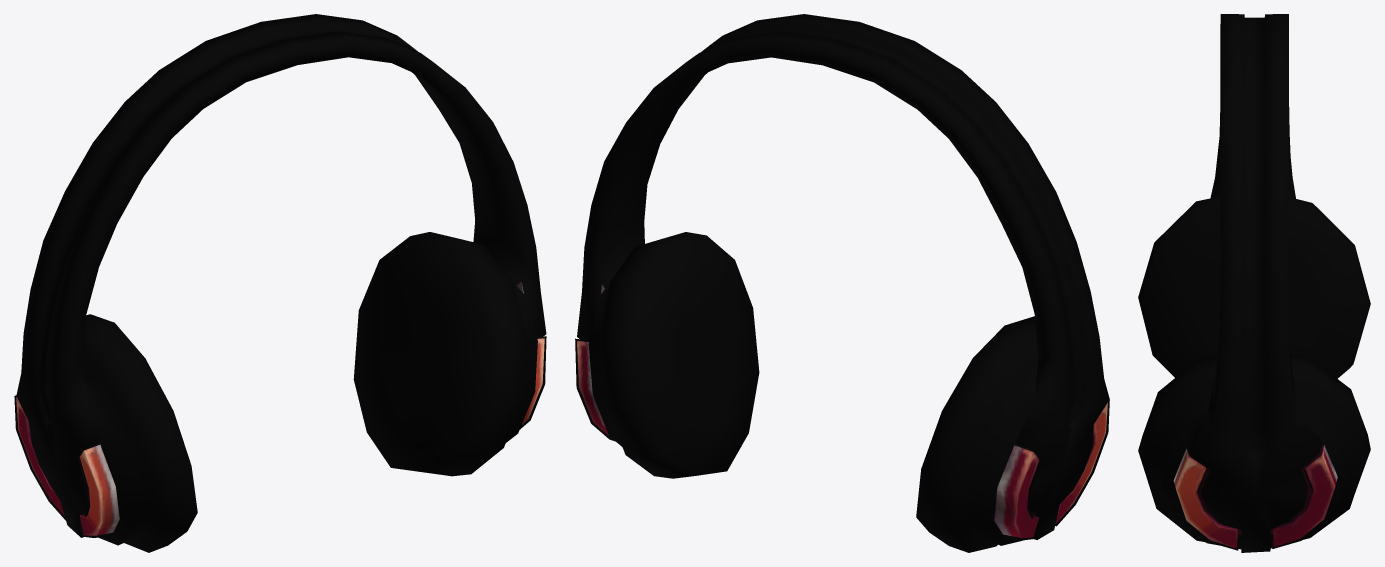
File: acc000_07.dae
The picture shows the model from 3 angles, left to right: view 1: azimuth 30°, elevation 25°; view 2: azimuth 150°, elevation 25°; view 3: azimuth 270°, elevation 25°; orthographic projection. The views are drawn at different scales.
Visible parts, largest first — view 1: m_headphone1, m_headphone; view 2: m_headphone1, m_headphone; view 3: m_headphone1, m_headphone.
Boxes of the visible parts, <box> form: m_headphone1: <box>14,14,546,552</box>; m_headphone: <box>16,282,544,535</box>; m_headphone1: <box>575,14,1109,552</box>; m_headphone: <box>577,285,1107,537</box>; m_headphone1: <box>1138,14,1370,552</box>; m_headphone: <box>1173,444,1337,548</box>.
Bounding box in the file's own units: 21.84 × 20.48 × 9.78.
2 materials, 1 textured.
